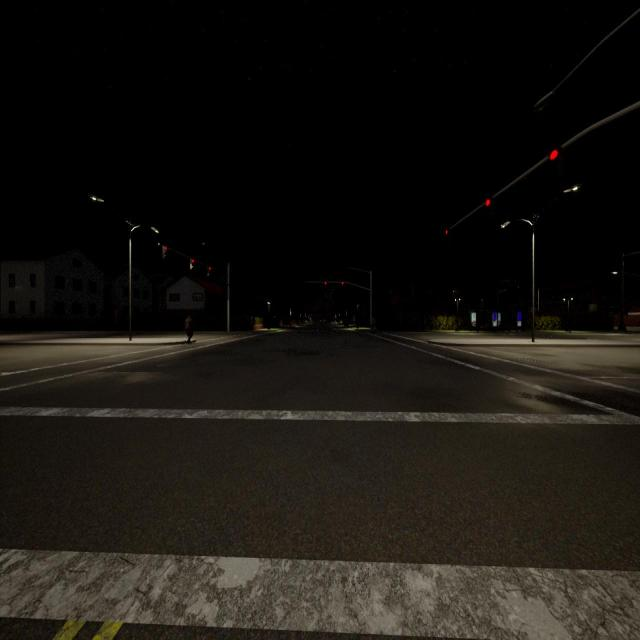Pedestrian: (186, 315, 193, 343)
traffic_light: (549, 150, 558, 160), (163, 246, 167, 258), (190, 259, 194, 269), (486, 200, 490, 207), (208, 266, 210, 276), (446, 230, 448, 235), (324, 281, 326, 285), (342, 281, 344, 285)
